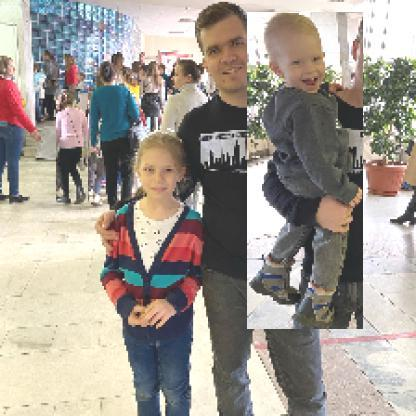child: (248, 13, 365, 331), (96, 131, 208, 415), (57, 90, 90, 205)
